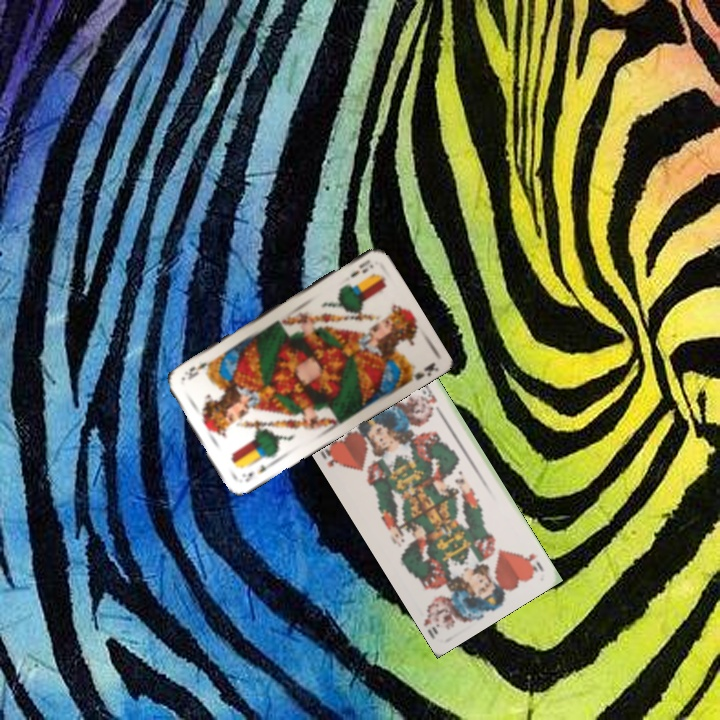EK: (238, 457, 275, 485), (346, 255, 376, 280)
HO: (316, 440, 346, 471), (521, 549, 546, 575)
